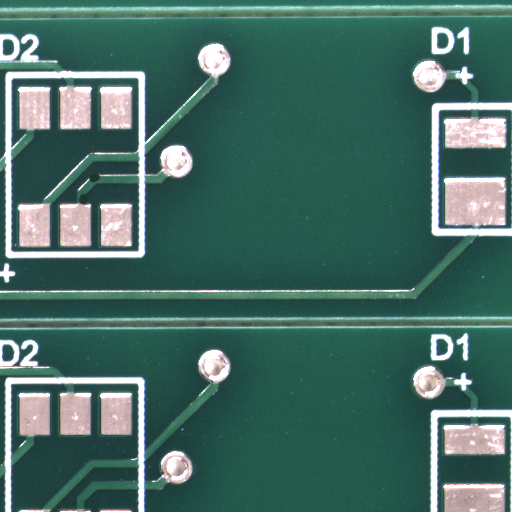Mouse_bite: (95, 178, 106, 188), (83, 199, 92, 208)
